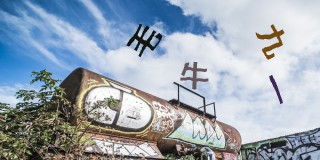一: (268, 74, 284, 104)
九: (255, 24, 284, 60)
毛: (127, 23, 163, 57)
牛: (180, 61, 209, 90)
